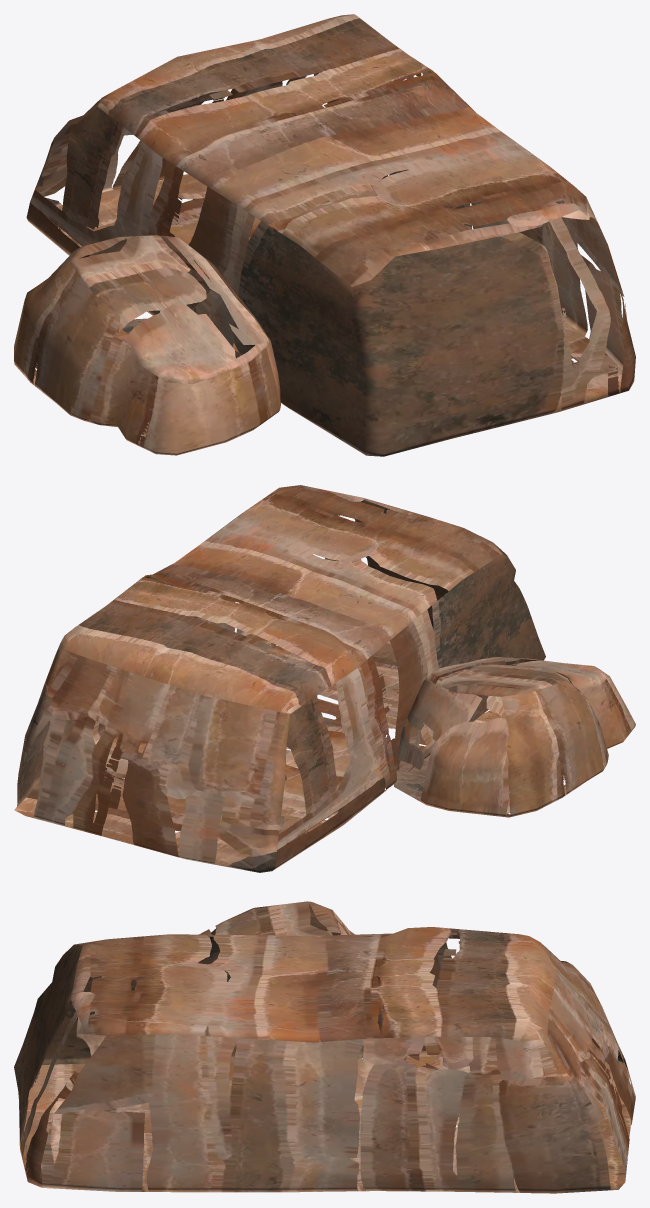
3 renders of one model, top to bottom at view 1: azimuth 30°, elevation 25°; view 2: azimuth 150°, elevation 25°; view 3: azimuth 270°, elevation 25°, orthographic. The views are drawn at different scales.
Visible parts, largest first — view 1: SM_Sandstone_Boulder_01_LOD0; view 2: SM_Sandstone_Boulder_01_LOD0; view 3: SM_Sandstone_Boulder_01_LOD0.
Part boxes in pixels (x1,y1,x2,y2): SM_Sandstone_Boulder_01_LOD0: (14, 14, 635, 456); SM_Sandstone_Boulder_01_LOD0: (14, 485, 635, 872); SM_Sandstone_Boulder_01_LOD0: (14, 901, 635, 1193).
Bounding box in the file's own units: 0.3337 × 0.119 × 0.4165.
